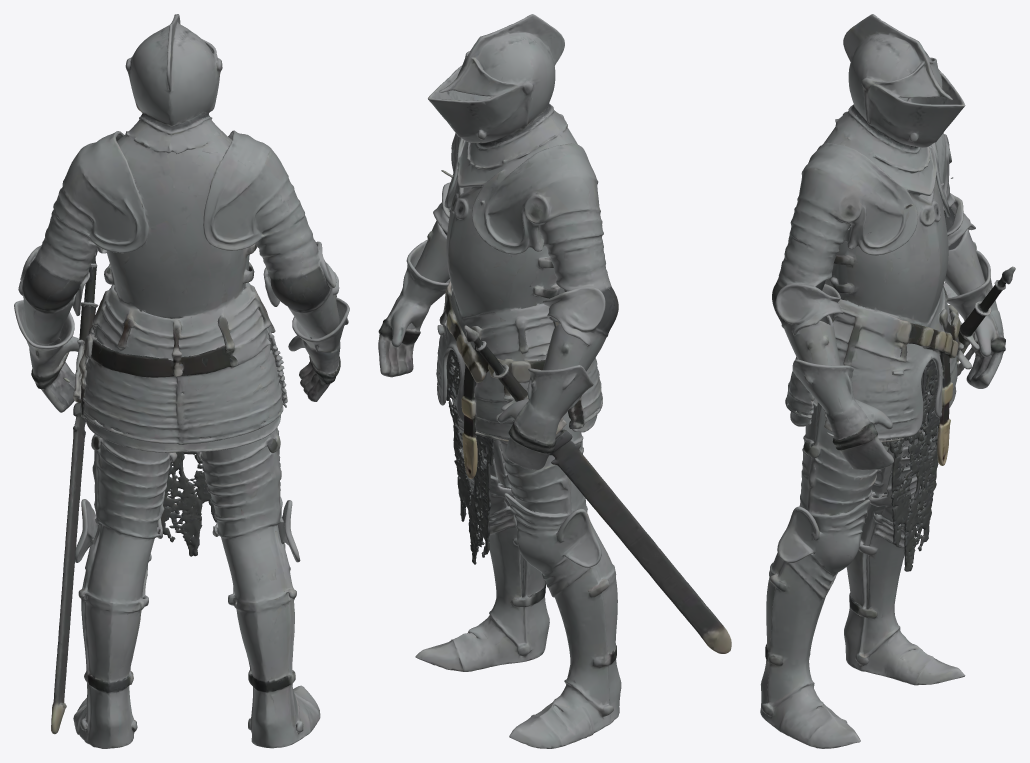
The model's file is TC004_Pixal 3d.glb.
3 renders of one model, left to right at view 1: azimuth 30°, elevation 25°; view 2: azimuth 150°, elevation 25°; view 3: azimuth 270°, elevation 25°, orthographic. The views are drawn at different scales.
Visible parts, largest first — view 1: world; view 2: world; view 3: world.
Part boxes in pixels (x1=…): world: x1=14, y1=14, x2=349, y2=748; world: x1=378, y1=14, x2=731, y2=748; world: x1=760, y1=14, x2=1015, y2=748.
Bounding box in the file's own units: 0.4191 × 0.8867 × 0.3.
Materials: 1 (1 with a texture image).
